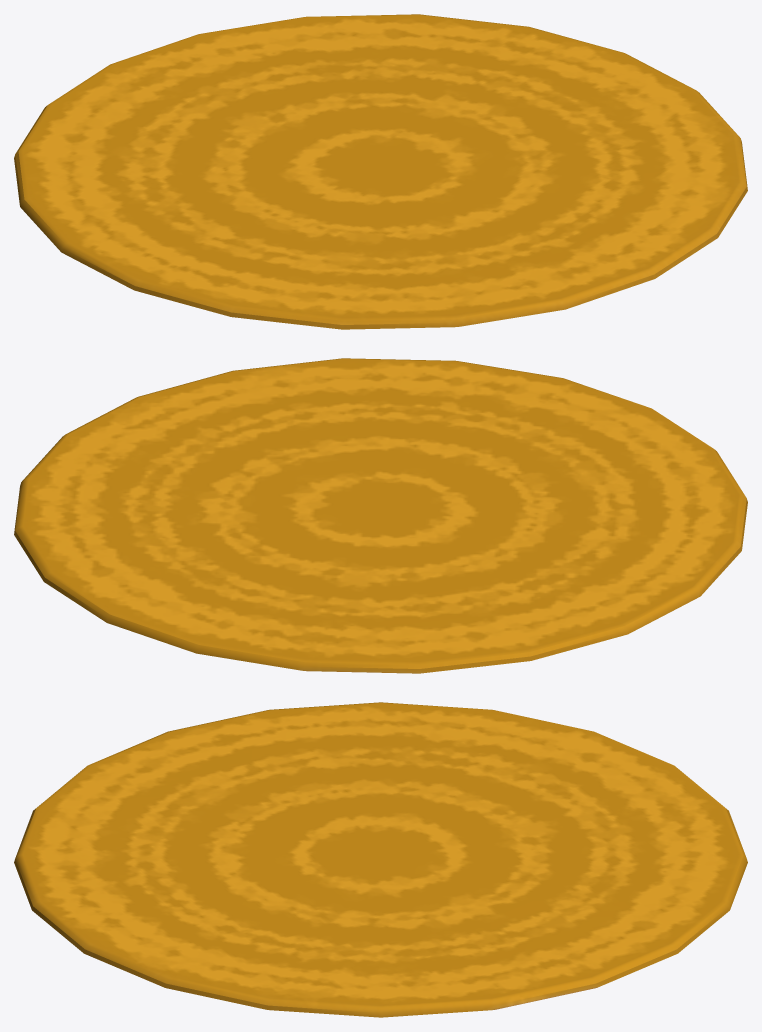
Rendered from SM_Carpet_01.fbx.
The picture shows the model from 3 angles, top to bottom: view 1: azimuth 30°, elevation 25°; view 2: azimuth 150°, elevation 25°; view 3: azimuth 270°, elevation 25°; orthographic projection.
Visible parts, largest first — view 1: SM_Carpet_01_LOD0; view 2: SM_Carpet_01_LOD0; view 3: SM_Carpet_01_LOD0.
Boxes of the visible parts, x1,y1,x2,y2 form: SM_Carpet_01_LOD0: [14, 14, 747, 329]; SM_Carpet_01_LOD0: [14, 358, 747, 673]; SM_Carpet_01_LOD0: [14, 702, 747, 1017].
Bounding box in the file's own units: 225 × 225 × 2.74.
Materials: 1 (1 with a texture image).
